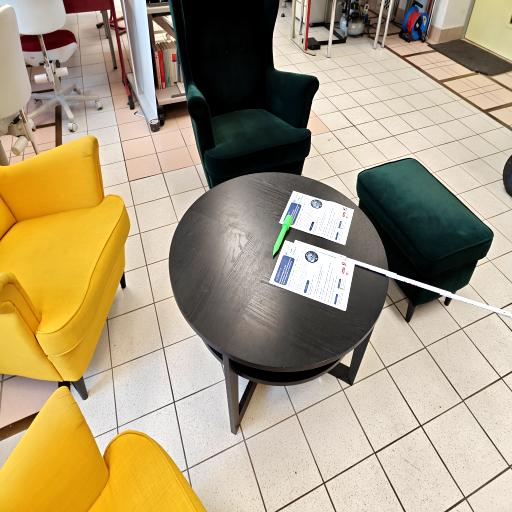Probe-Detection: (273, 214, 293, 255)
